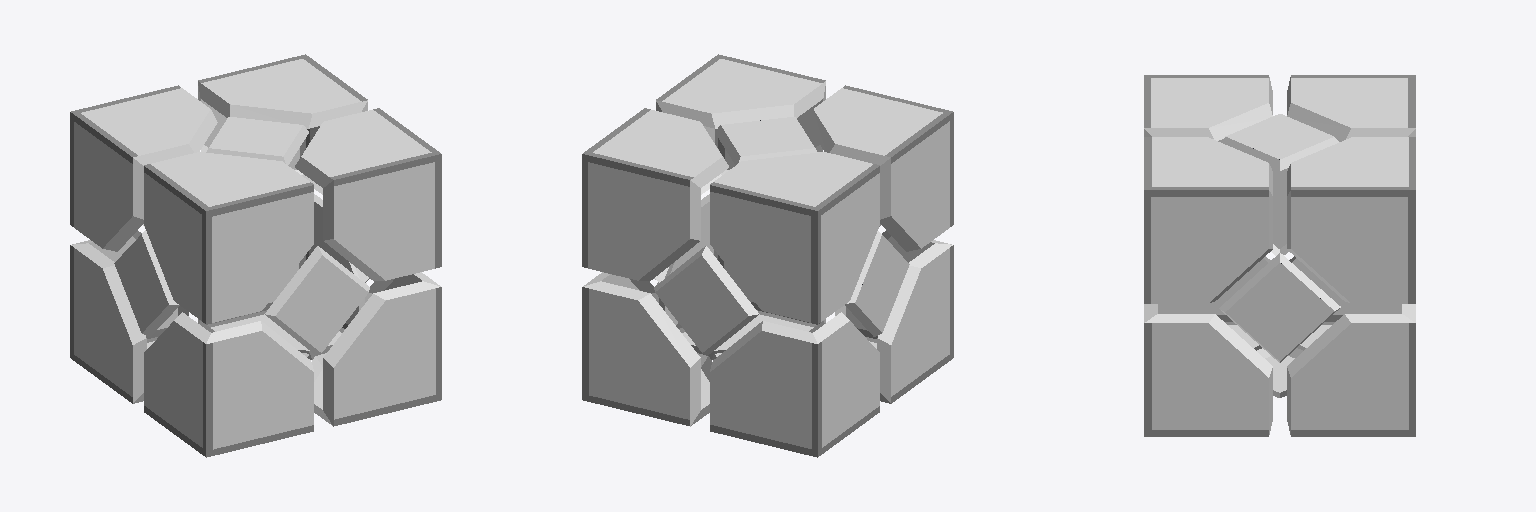
3 views of the same model, side by side, from view 1: azimuth 30°, elevation 25°; view 2: azimuth 150°, elevation 25°; view 3: azimuth 270°, elevation 25° (orthographic).
Parts seen in each view (by area): view 1: Shell_立方体.005; view 2: Shell_立方体.005; view 3: Shell_立方体.005.
Part boxes in pixels (left/top/right/bottom): Shell_立方体.005: left=70, top=54, right=441, bottom=457; Shell_立方体.005: left=582, top=54, right=953, bottom=457; Shell_立方体.005: left=1144, top=75, right=1415, bottom=436.
Bounding box in the file's own units: 2 × 2 × 2.
Materials: 1 (1 with a texture image).